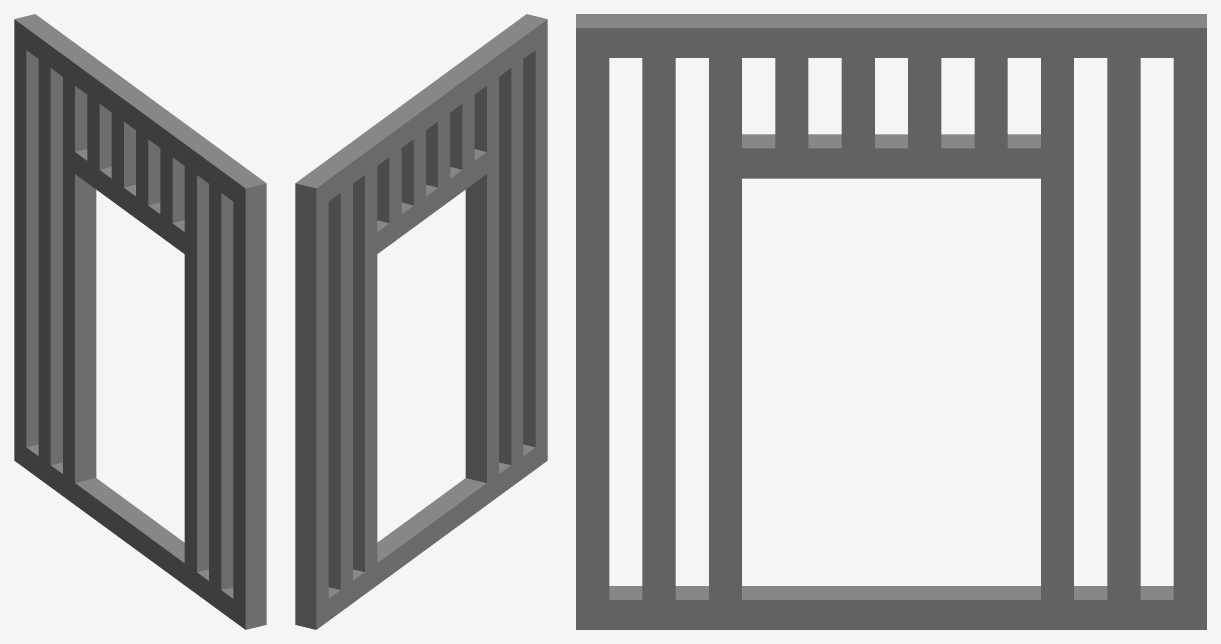
File: Jail Bars Doorway.obj
3 views of the same model, side by side, from view 1: azimuth 30°, elevation 25°; view 2: azimuth 150°, elevation 25°; view 3: azimuth 270°, elevation 25° (orthographic). The views are drawn at different scales.
Parts seen in each view (by area): view 1: Jail Bars Doorway; view 2: Jail Bars Doorway; view 3: Jail Bars Doorway.
Boxes of the visible parts, x1,y1,x2,y2 form: Jail Bars Doorway: (14, 14, 266, 629); Jail Bars Doorway: (295, 14, 547, 629); Jail Bars Doorway: (576, 14, 1206, 629).
Size of the model in its own units: 1 by 20 by 19.
